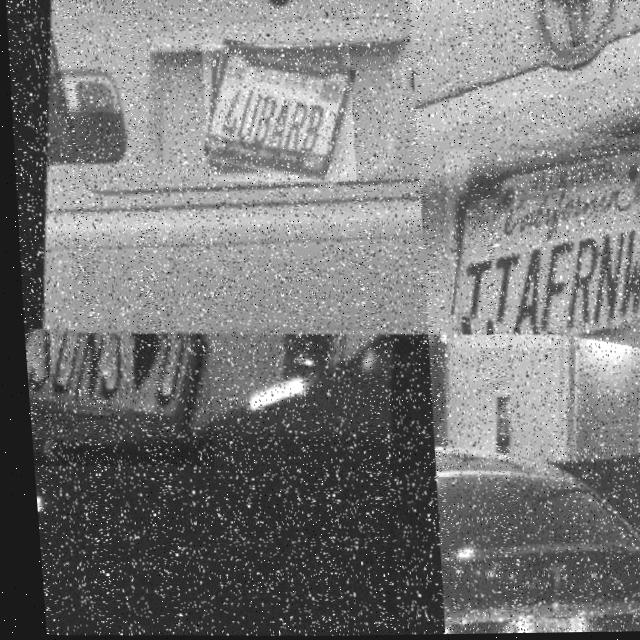LicensePlate: (448, 154, 640, 350), (19, 328, 208, 468), (198, 43, 355, 184), (508, 616, 581, 634)
